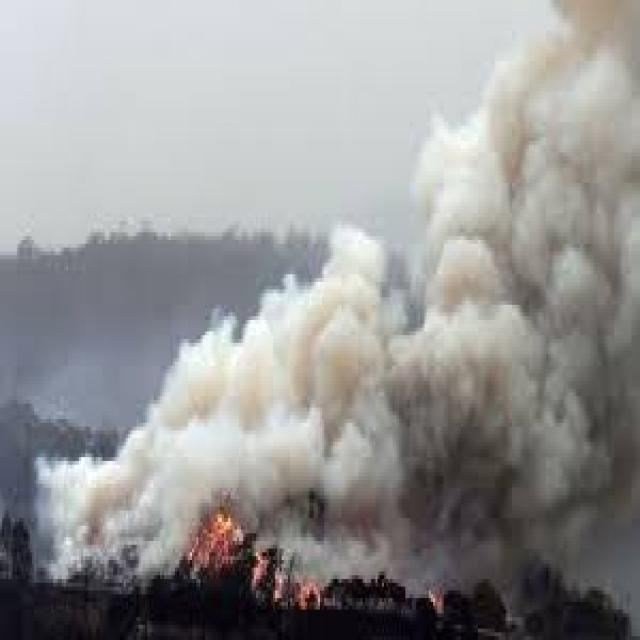Smoke: (32, 0, 640, 602)
